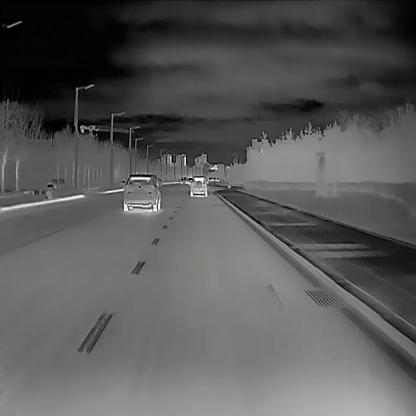car: (121, 173, 160, 211), (189, 176, 207, 197), (180, 176, 187, 184), (187, 177, 193, 185), (207, 177, 214, 182), (213, 178, 217, 181), (216, 177, 218, 181)
